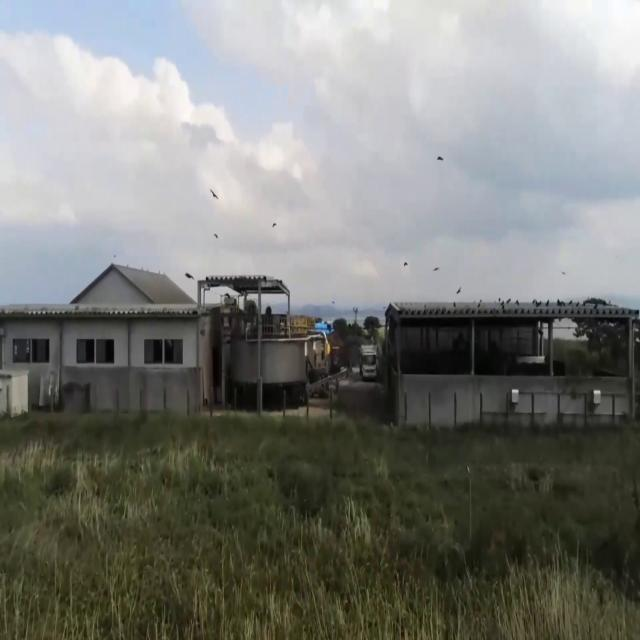bird: (209, 180, 219, 207), (184, 264, 194, 287), (436, 148, 444, 168)
